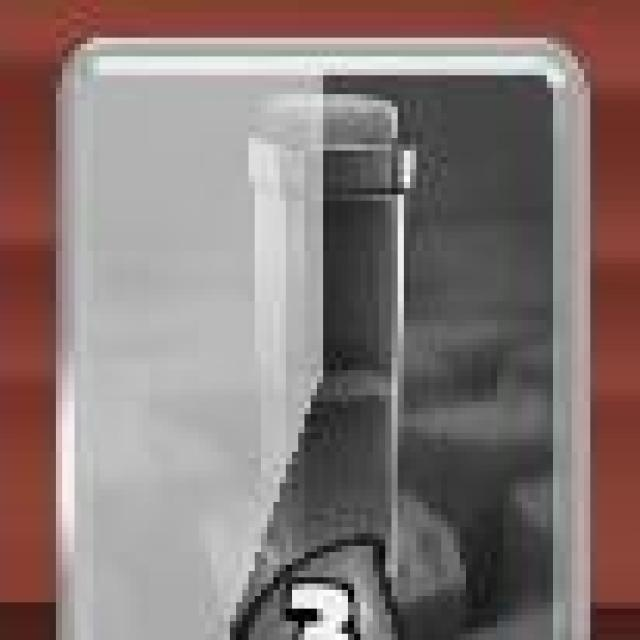Earthquake: (51, 35, 594, 640)
